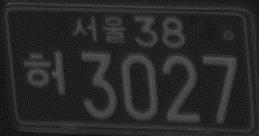0: (122, 52, 159, 122)
2: (159, 54, 202, 125)
3: (79, 51, 118, 120), (132, 13, 159, 48)
7: (200, 53, 237, 125)
8: (159, 16, 186, 49)
서울_O: (71, 14, 128, 45)
허: (22, 50, 68, 98)
